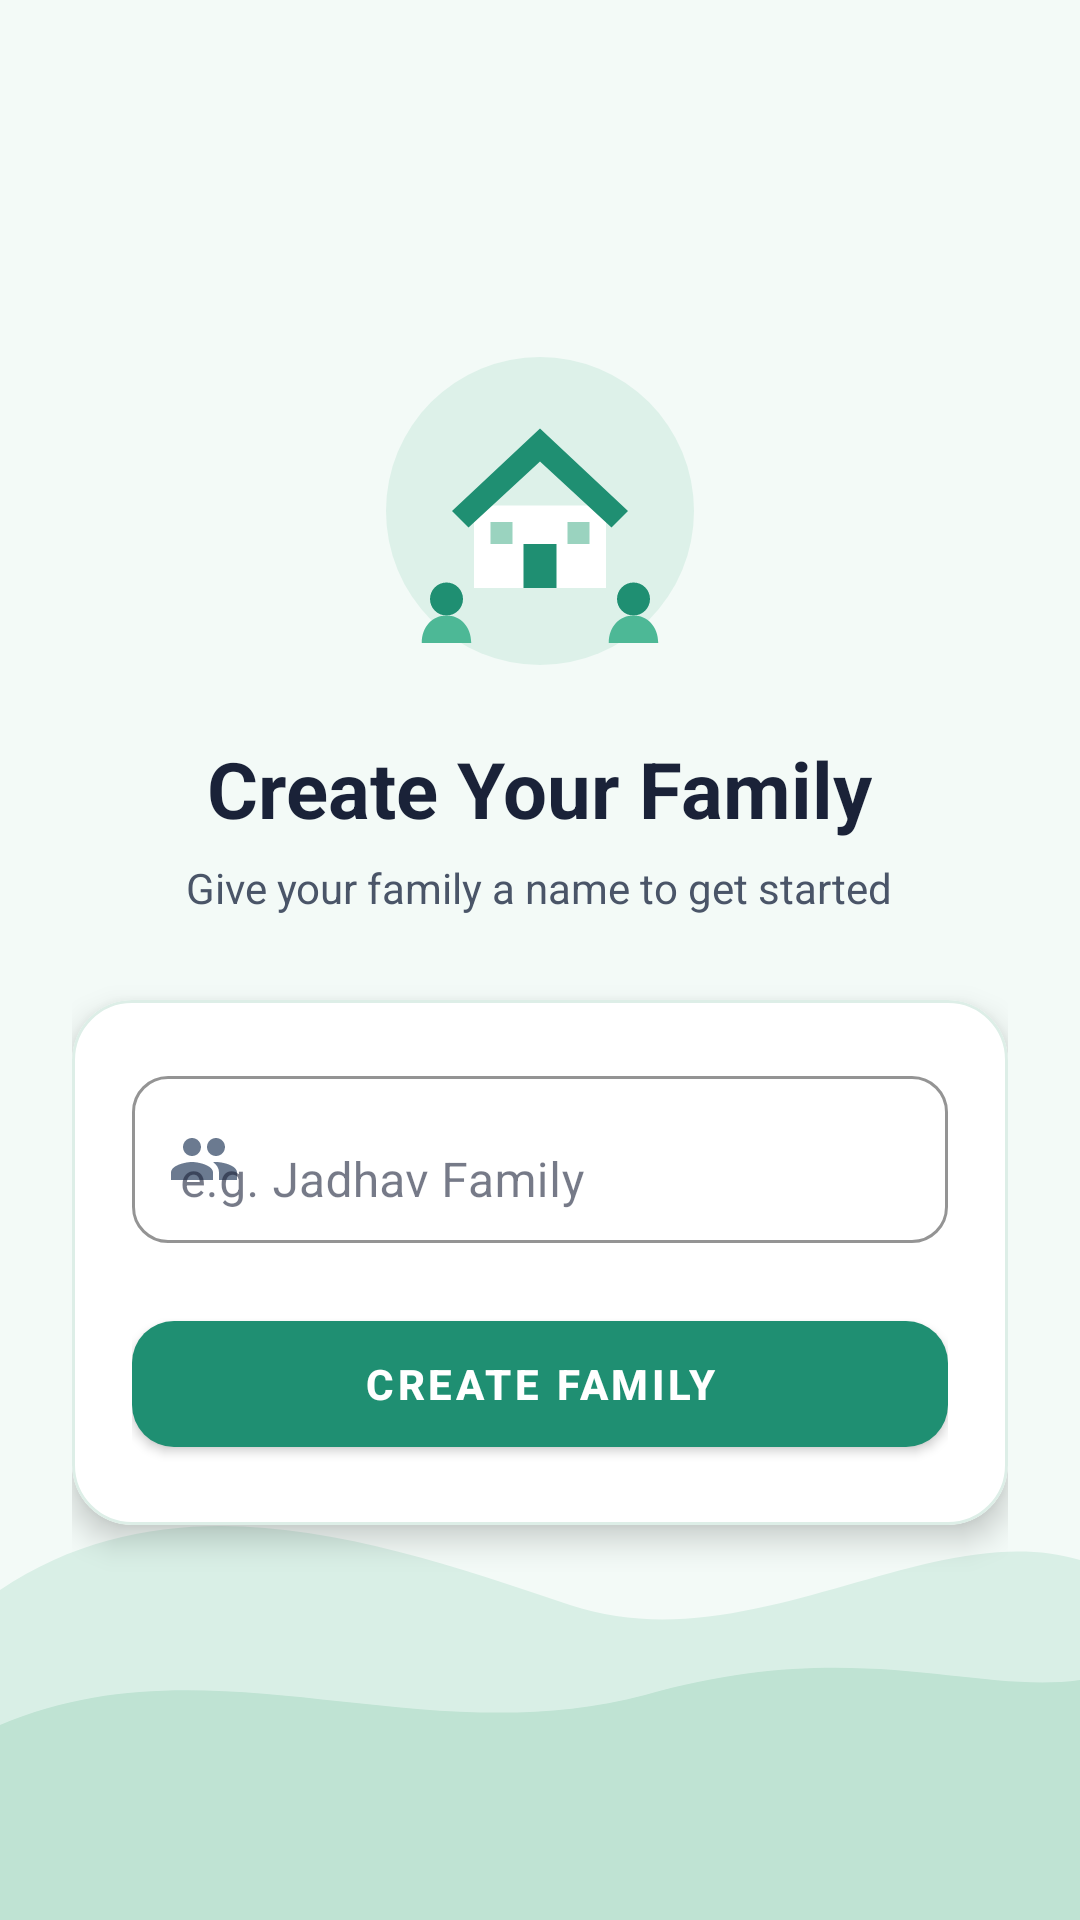

Screen size 1080 x 1920. Icon name, then its box in pixels as detection(x1, y1, x2, y2):
family home: detection(386, 357, 694, 665)
